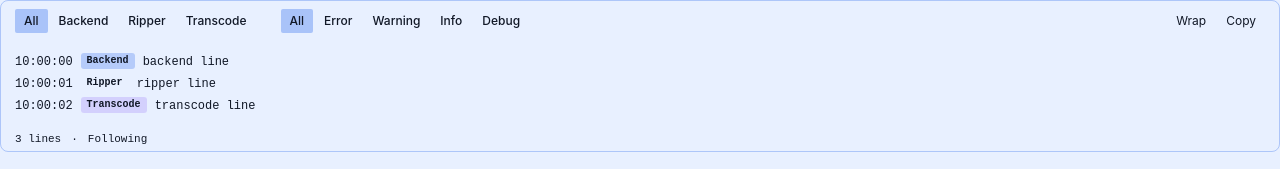
Test: LogView › filters by service
What coordinates should you click on to do the following:
click the radio button with test id "job-log-filter-ripper"
I would click on:
 (147, 21)
Its box is [119,9,175,33].
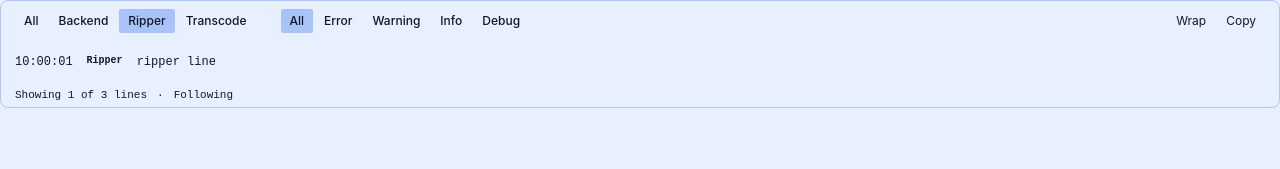
Result: the text "ripper line" is shown at [137,53,216,71]
Result: the text "backend line" is gone
Result: the text "transcode line" is gone
